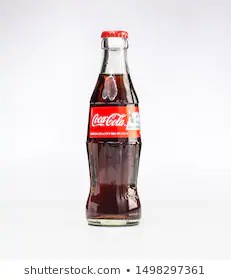coke-glass-bottle: (83, 30, 144, 228)
